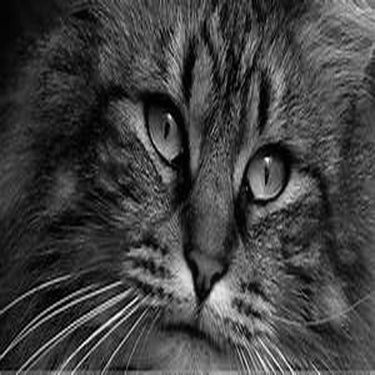cat: (7, 1, 369, 368)
